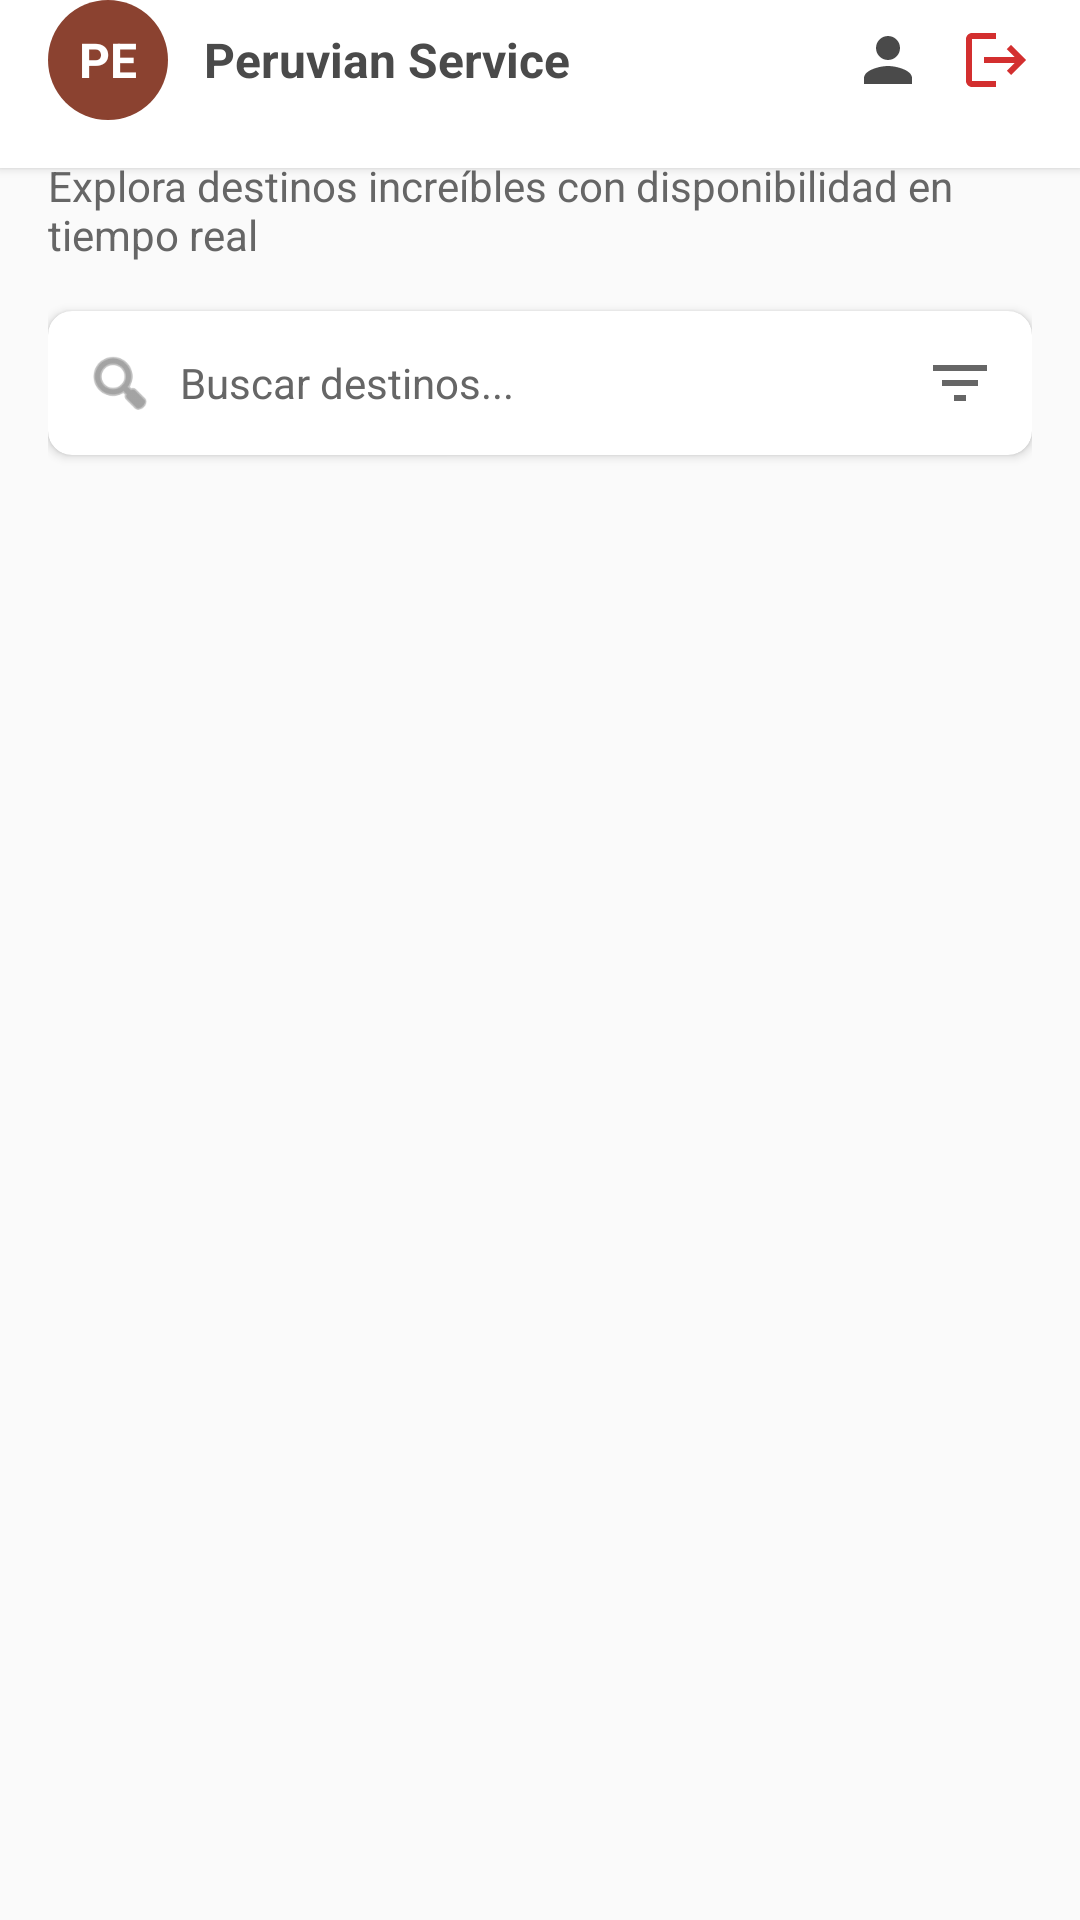

Where icons sit on this 1080*1920 app screen, as (x1, y1, x2, y2):
filter list: (933, 365, 987, 401)
Perfil: (864, 36, 912, 84)
search: (94, 357, 146, 410)
